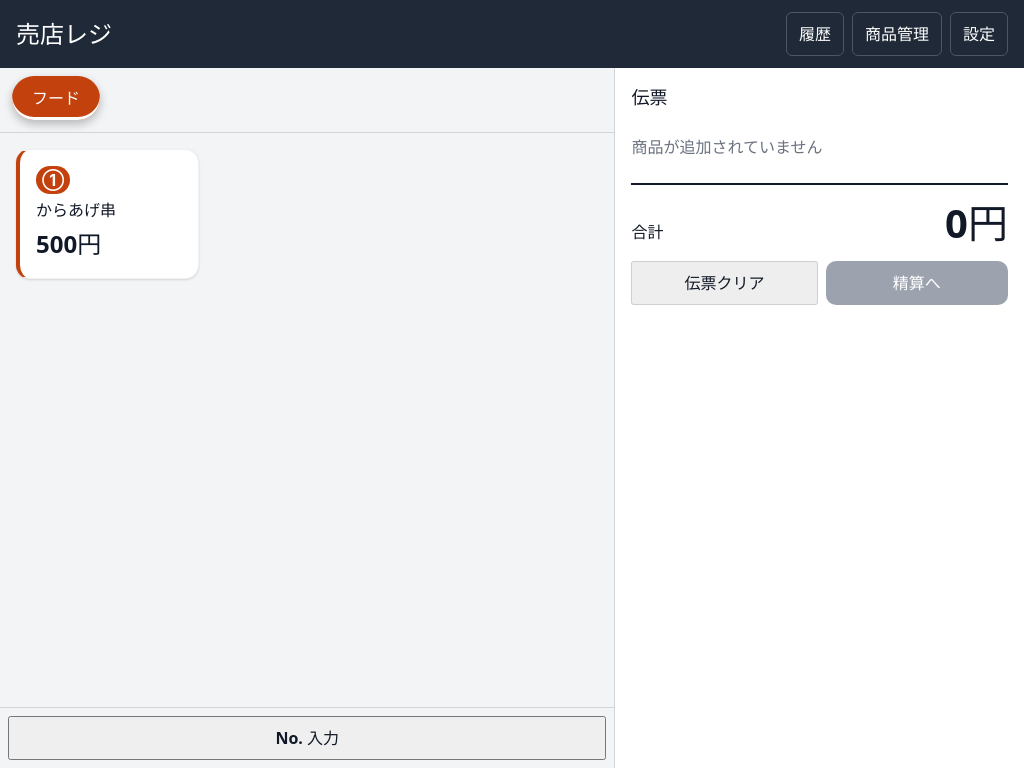
Test case: 精算へボタン › 商品を追加すると活性になる
Click the button with aria-label "からあげ串を追加": {"x": 108, "y": 214} [16,149,200,279]
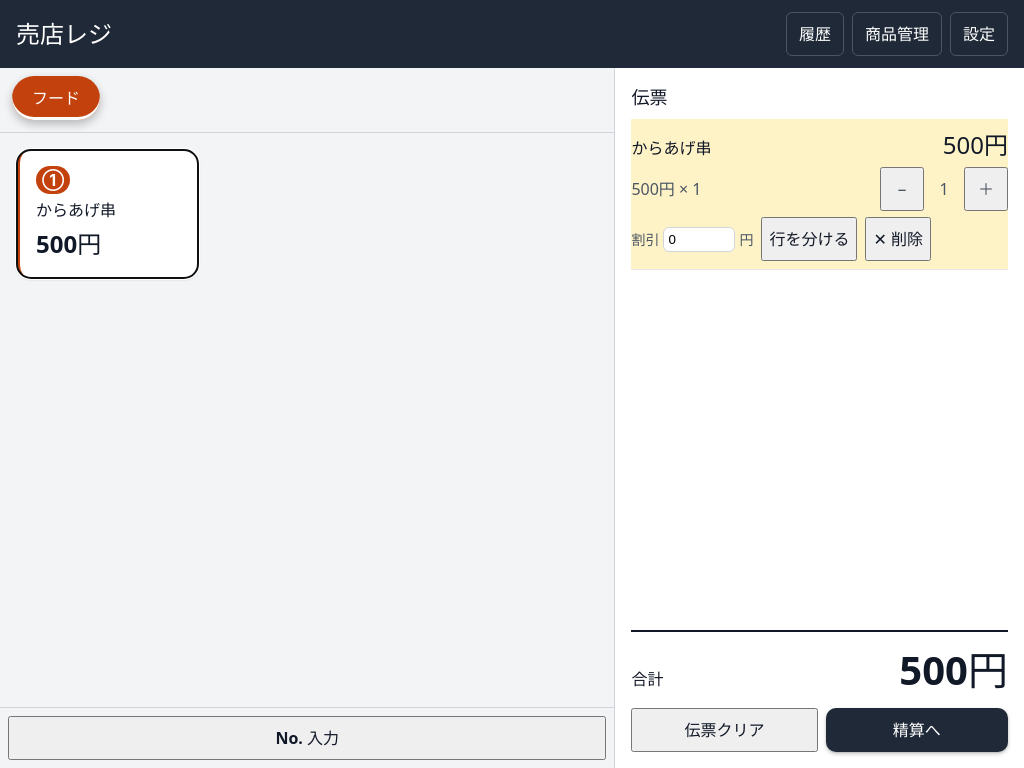
Check: the button "精算へ" is enabled, box [826,708,1008,752]
